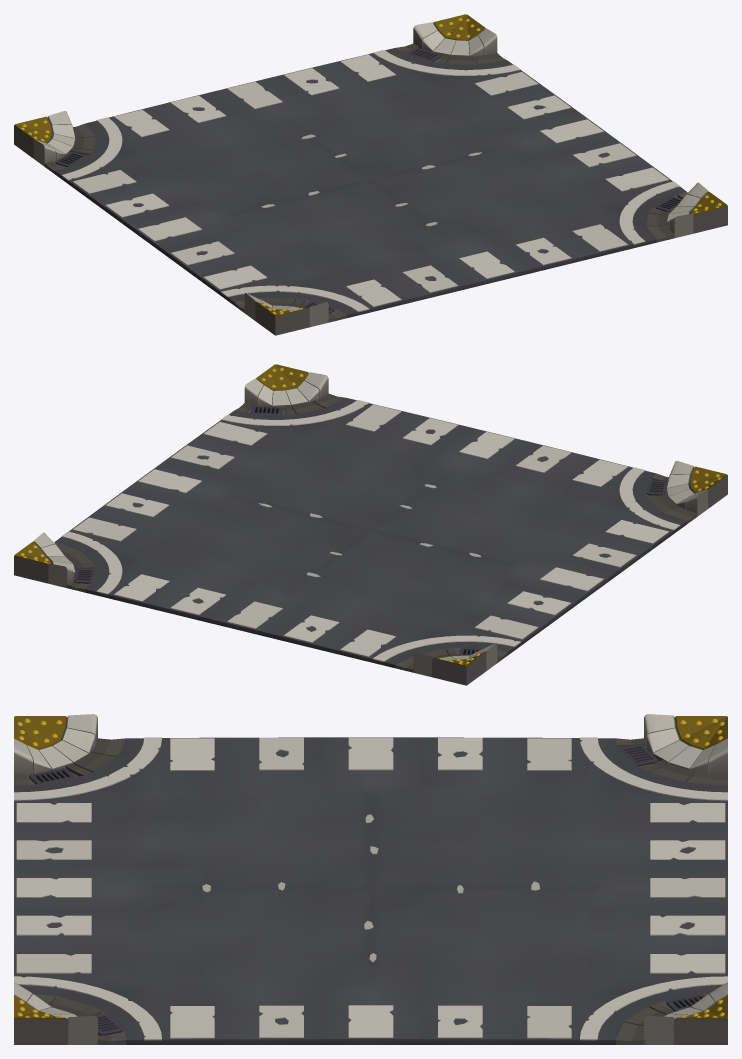
File: ground01.fbx
3 views of the same model, one above another, from view 1: azimuth 30°, elevation 25°; view 2: azimuth 150°, elevation 25°; view 3: azimuth 270°, elevation 25° (orthographic). The views are drawn at different scales.
Visible parts, largest first — view 1: road_4way_accessible_01; view 2: road_4way_accessible_01; view 3: road_4way_accessible_01.
Part boxes in pixels (x1,y1,x2,y2): road_4way_accessible_01: [14, 14, 727, 335]; road_4way_accessible_01: [14, 364, 727, 685]; road_4way_accessible_01: [14, 714, 727, 1044].
Bounding box in the file's own units: 400 × 17.99 × 400.
